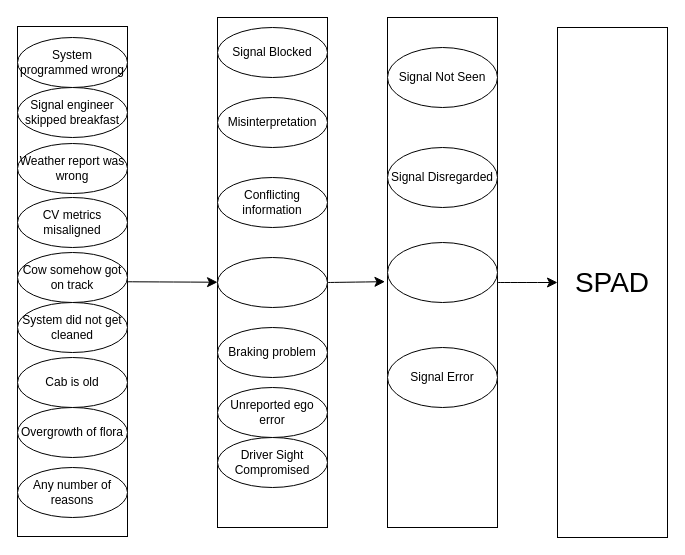
Some shapes in this 685 by 555 pixel diagram are drawn without their labels. The shapes that lost their labels are listed below. From the top down, each one's box as (x1, y1, x2, y2) in pixels, then its label:
(216, 256, 328, 308): Info cannot be verified
(386, 242, 498, 302): Signal Misinterpreted
